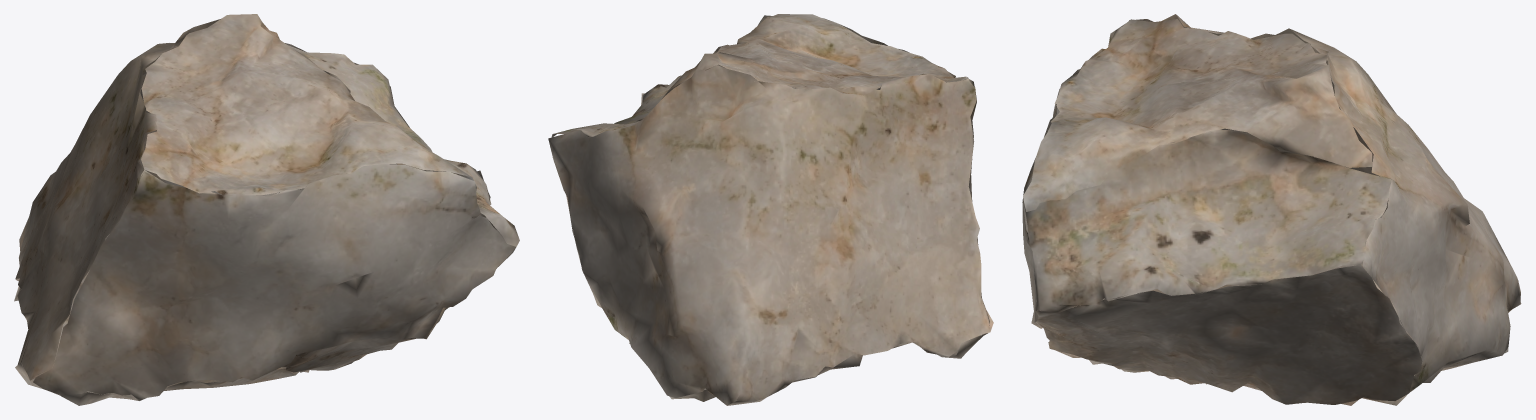
The model's file is namaqualand_stones_01_4.gltf.
The picture shows the model from 3 angles, left to right: view 1: azimuth 30°, elevation 25°; view 2: azimuth 150°, elevation 25°; view 3: azimuth 270°, elevation 25°; orthographic projection. The views are drawn at different scales.
Visible parts, largest first — view 1: namaqualand_stones_01_e; view 2: namaqualand_stones_01_e; view 3: namaqualand_stones_01_e.
Part boxes in pixels (box(x1,y1,x2,y2)): namaqualand_stones_01_e: box(14, 14, 519, 405); namaqualand_stones_01_e: box(548, 14, 993, 405); namaqualand_stones_01_e: box(1022, 14, 1521, 405).
Bounding box in the file's own units: 0.1116 × 0.0766 × 0.1119.
Materials: 1 (1 with a texture image).
